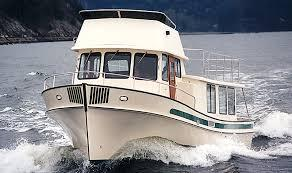Ship: (43, 12, 255, 161)
